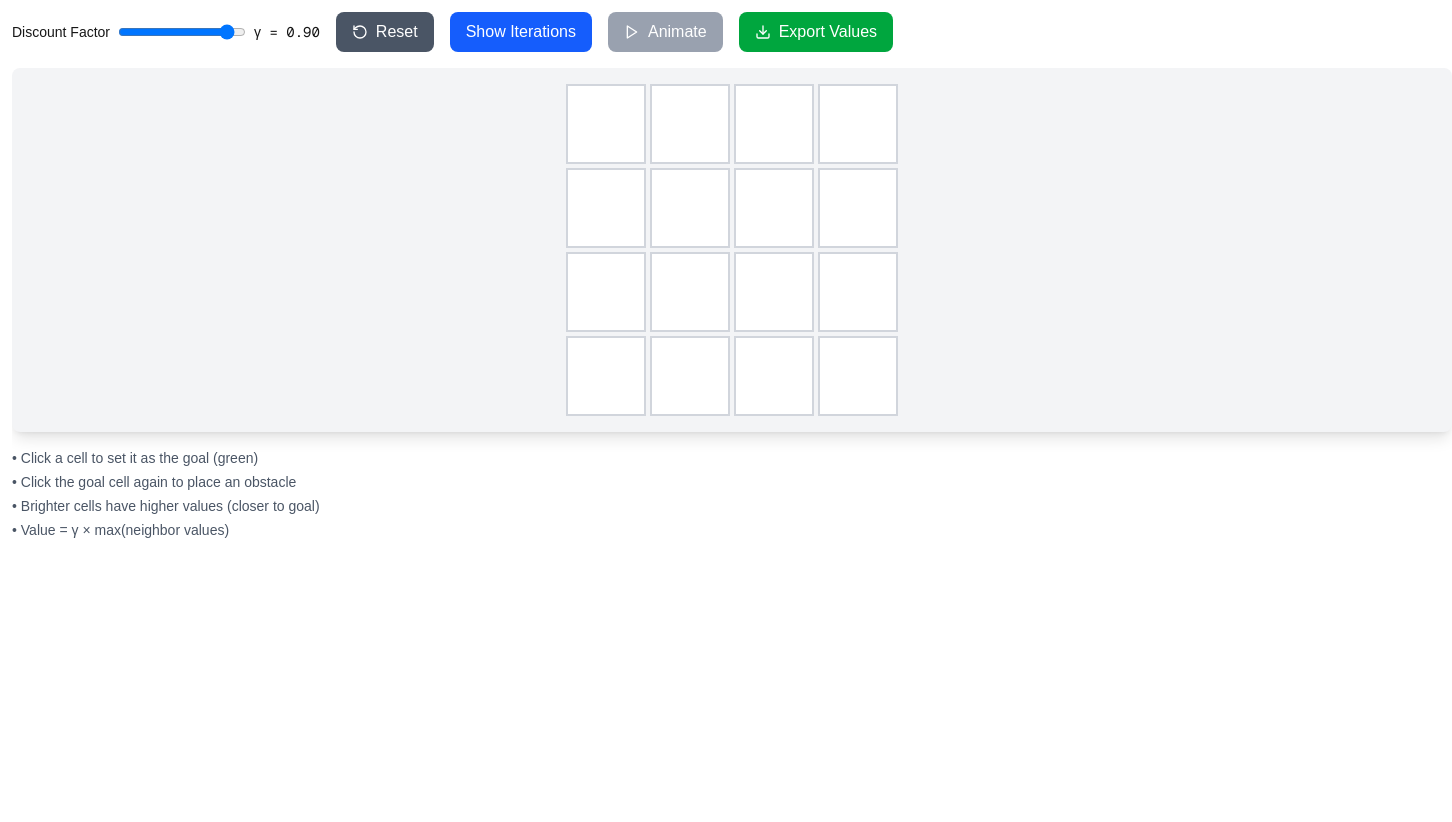
ValueFunctionVisualizer Component › should toggle iteration visualization
This screenshot has width=1452, height=822.
Set a goal first
Click the element with test id "value-cell-2-2" at (774, 292), box [734,252,814,332]
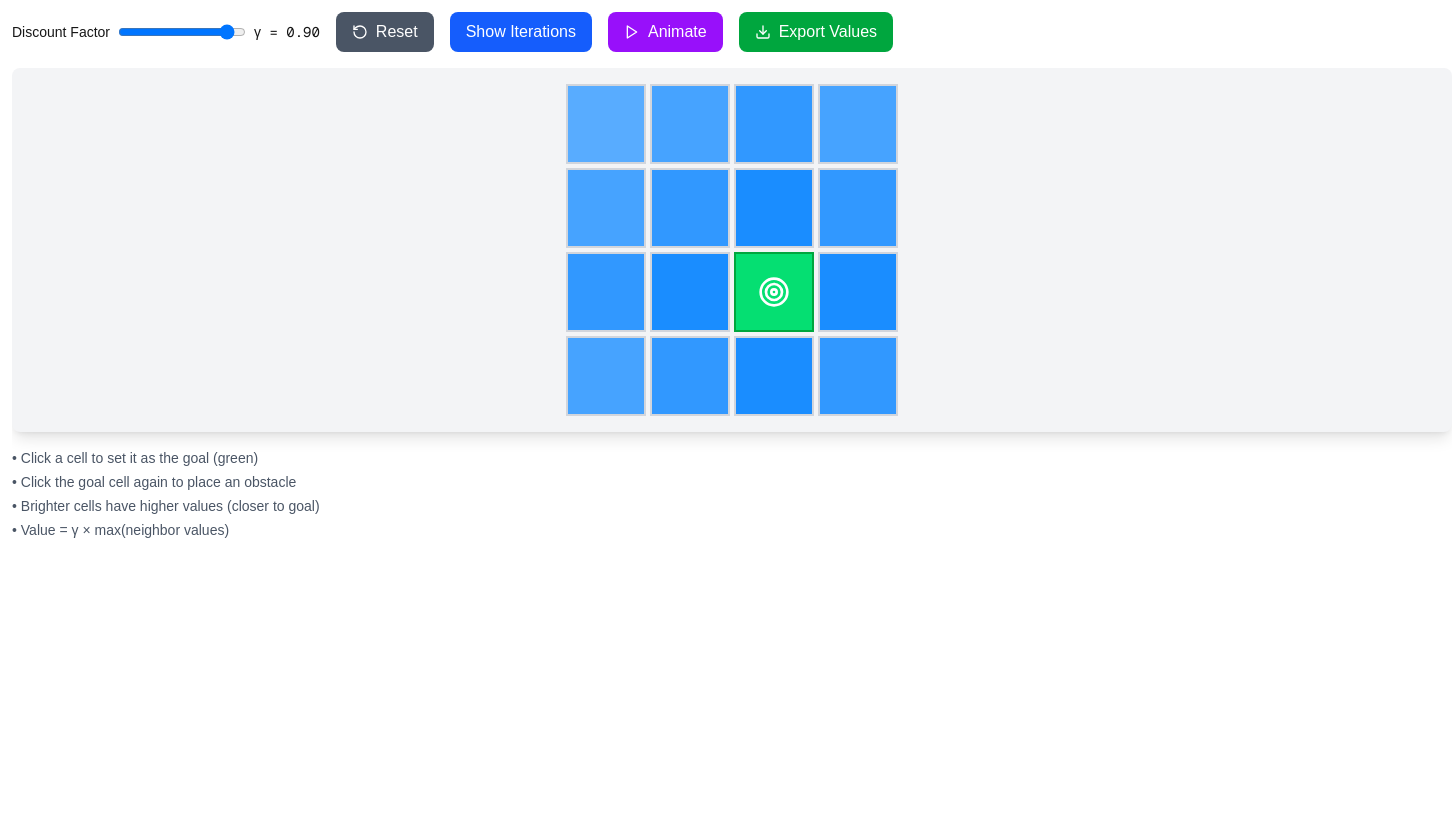
Click the button "Show Iterations" at (521, 32), box [450,12,592,52]
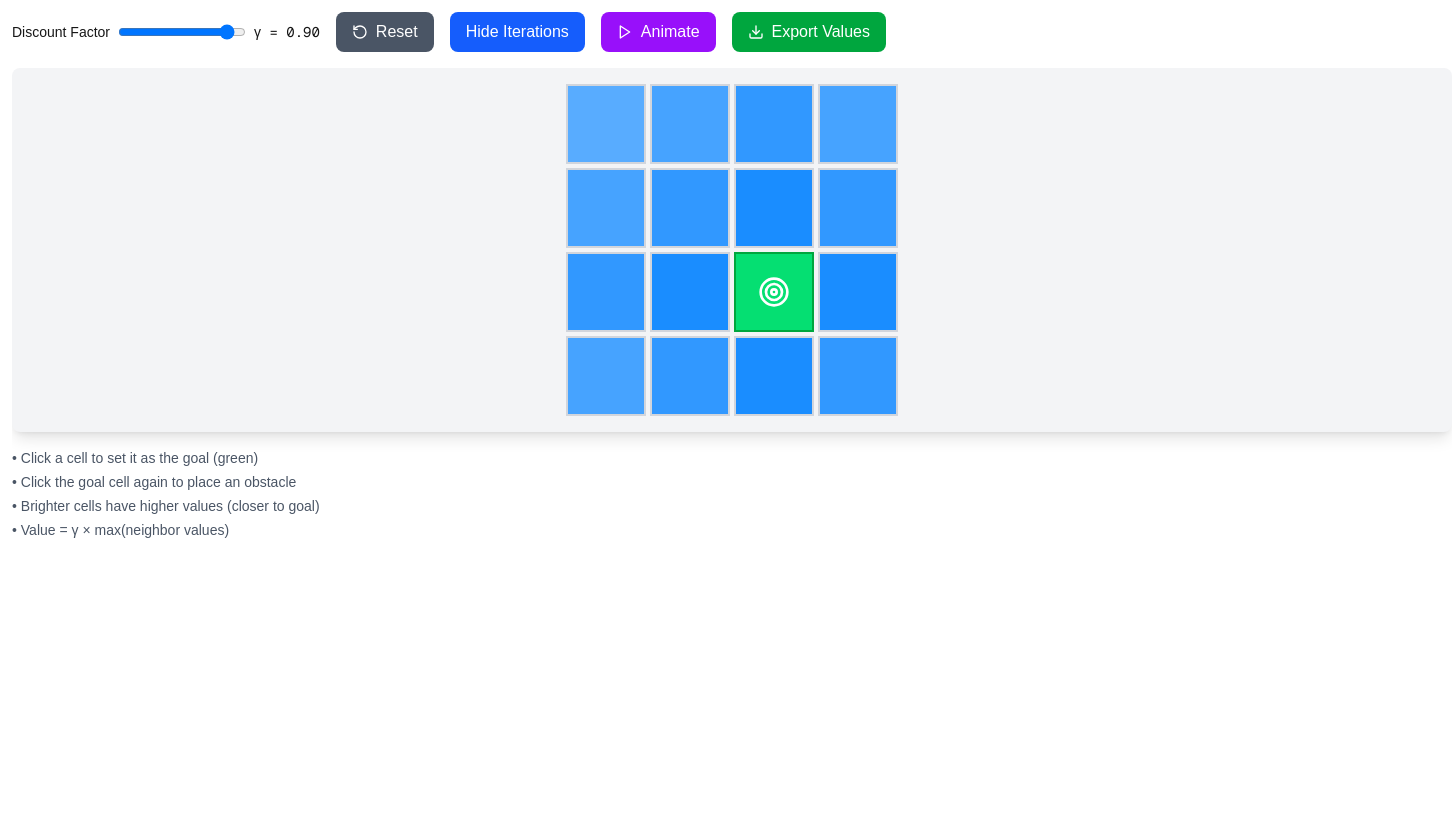
Start animation to see iteration info
Click the button "Animate" at (658, 32), box [601,12,716,52]
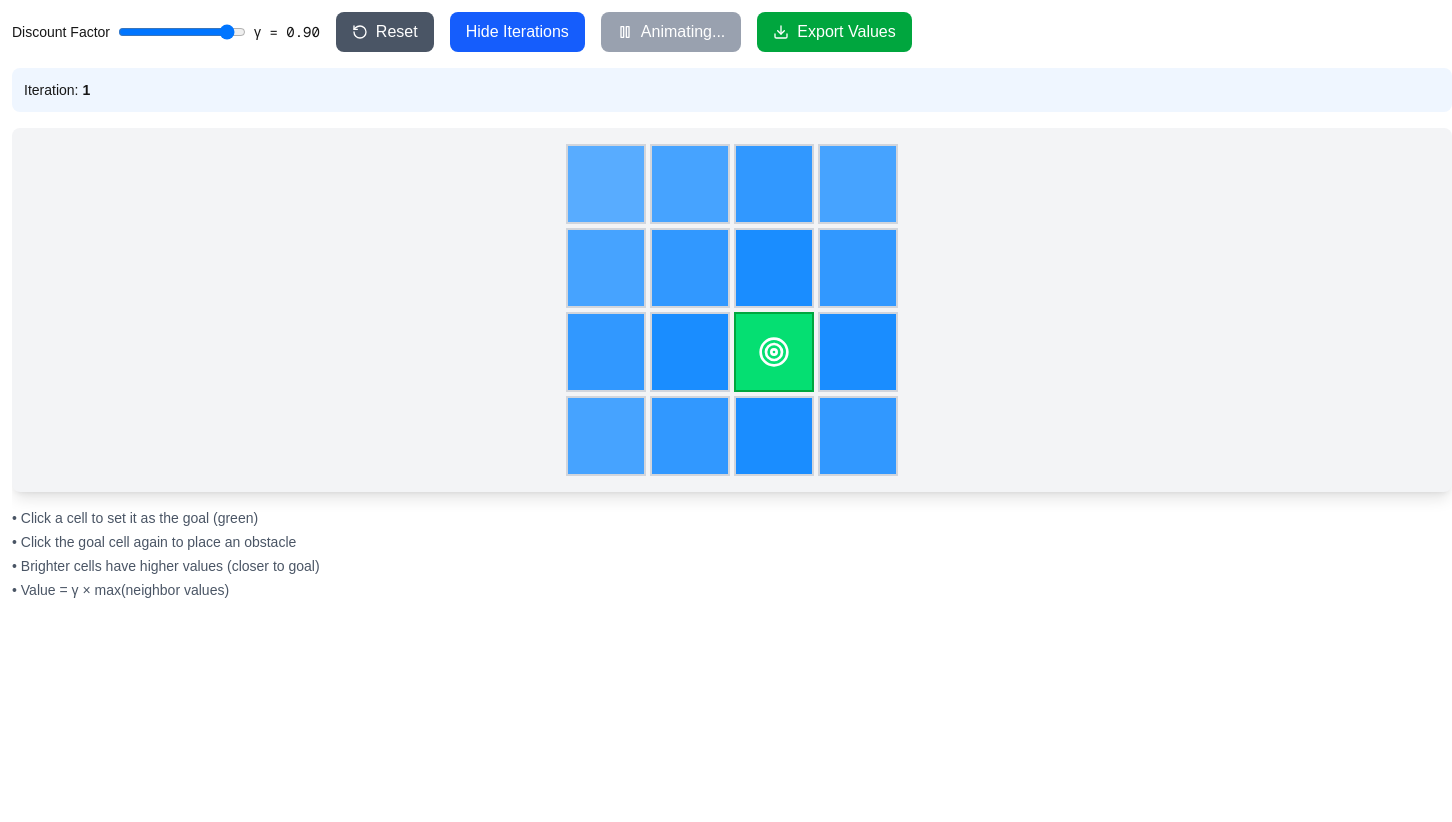
Now the text "Iteration: 1" is shown, box [24,82,90,98]
